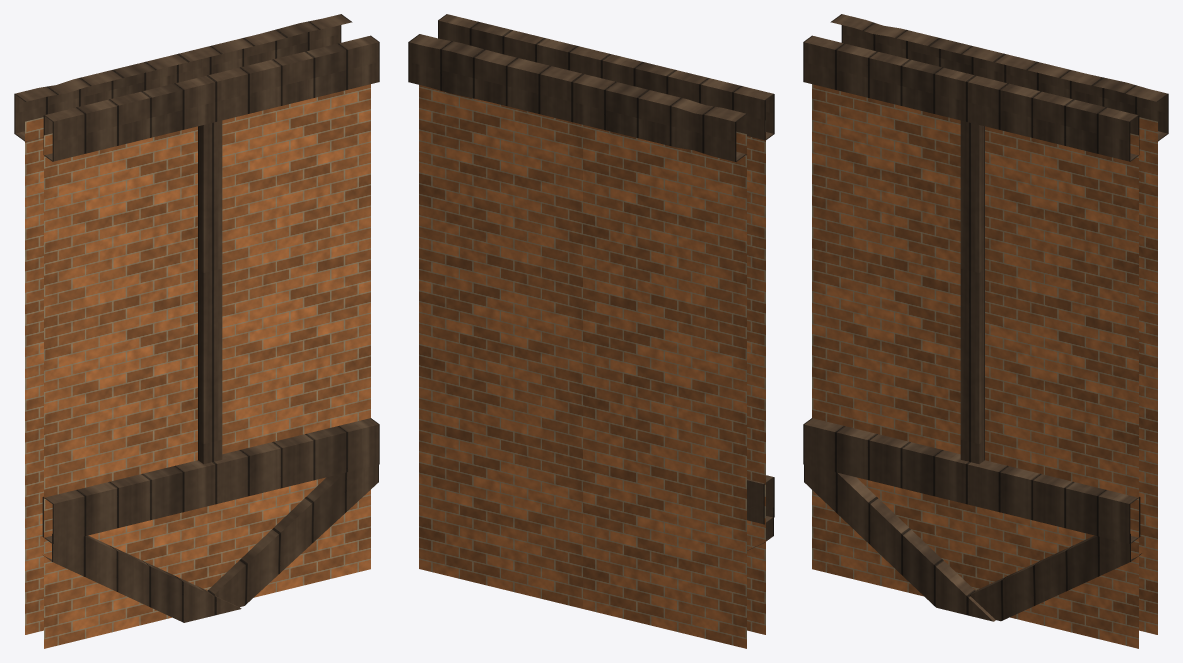
Rendered from Wall_OchreBrick_Straight_LOD2.gltf.
The picture shows the model from 3 angles, left to right: view 1: azimuth 30°, elevation 25°; view 2: azimuth 150°, elevation 25°; view 3: azimuth 330°, elevation 25°; orthographic projection.
Parts seen in each view (by area): view 1: Wall_OchreBrick_Straight_LOD2; view 2: Wall_OchreBrick_Straight_LOD2; view 3: Wall_OchreBrick_Straight_LOD2.
Part boxes in pixels (x1,y1,x2,y2): Wall_OchreBrick_Straight_LOD2: (14, 14, 379, 648); Wall_OchreBrick_Straight_LOD2: (408, 14, 774, 648); Wall_OchreBrick_Straight_LOD2: (803, 14, 1168, 648).
Bounding box in the file's own units: 2 × 3.12 × 0.406.
2 materials, 2 textured.
